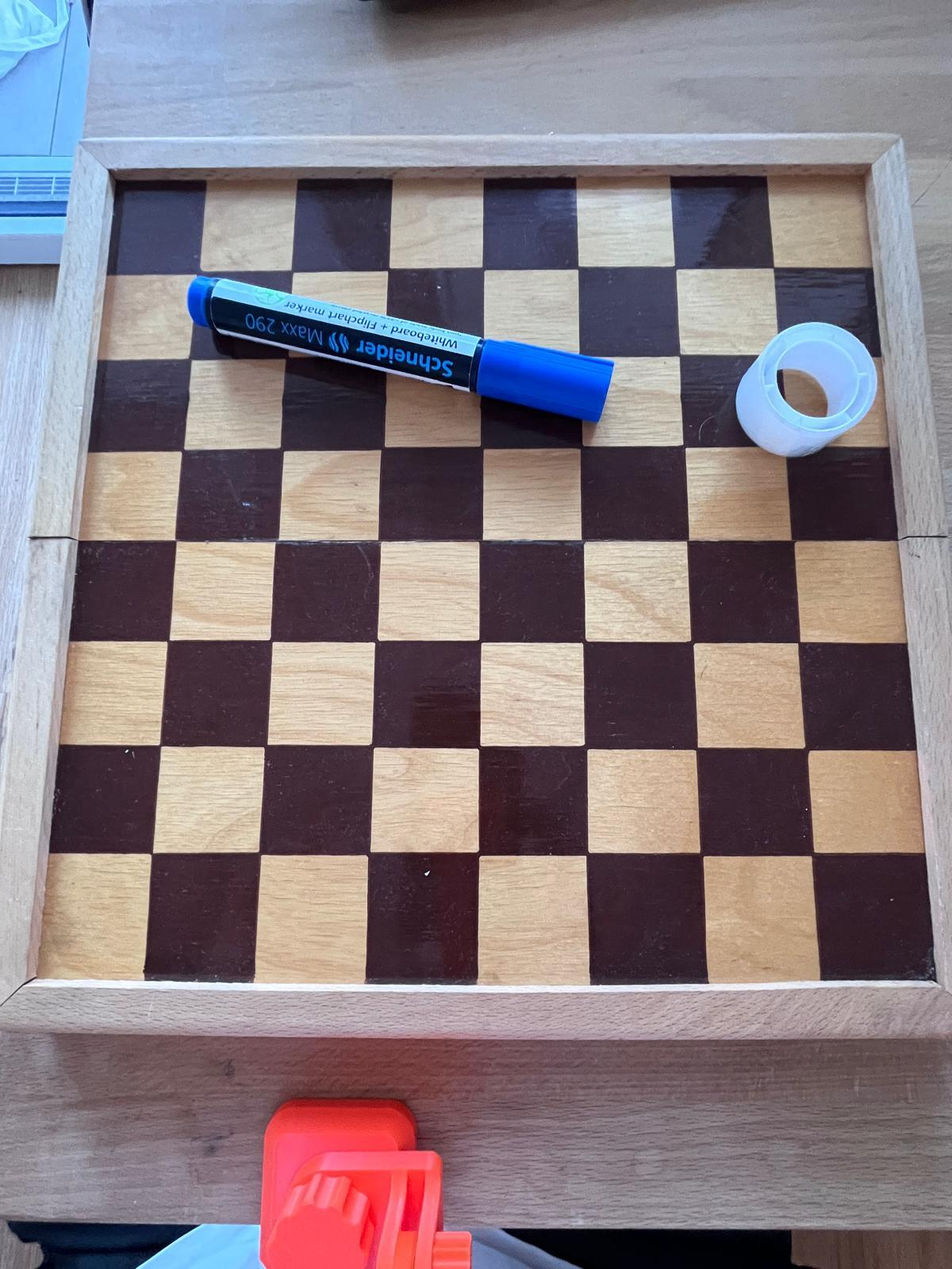marker: (179, 266, 617, 430)
tape: (733, 324, 877, 460)
